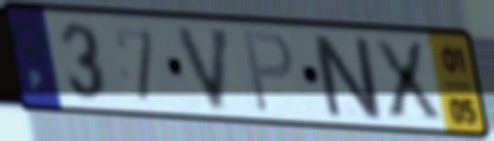3: (56, 20, 108, 104)
7: (114, 25, 157, 104)
N: (307, 30, 387, 123)
P: (240, 29, 297, 116)
V: (172, 23, 234, 115)
X: (368, 37, 446, 122)
